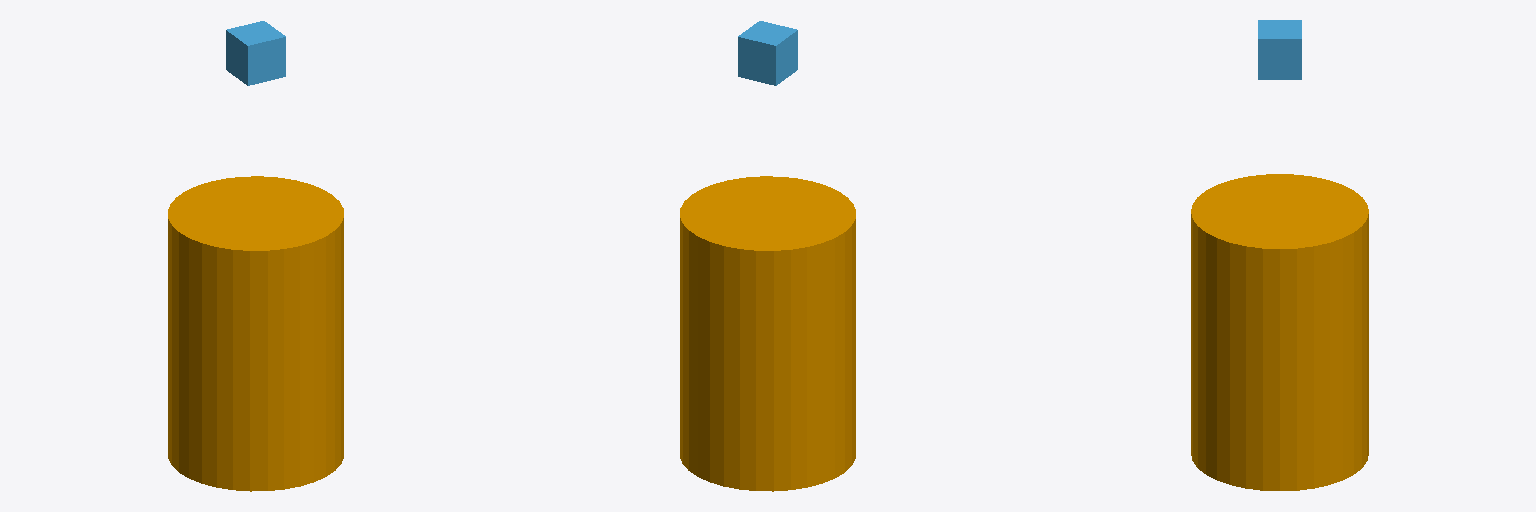
URDF robot description (sensor_model):
<?xml version="1.0"?>

<robot name="sensor_model">
  
    <link name="base_link"> 
        <visual>
            <origin xyz="0 0 0.3" rpy="0 0 0"/>
            <geometry>
                <cylinder radius="0.2" length="0.6"/>
            </geometry>
            
        </visual> 
        <collision>
            <origin xyz="0 0 0.3" rpy="0 0 0"/>
            <geometry>
                <cylinder radius="0.2" length="0.6"/>
            </geometry>
        </collision>  
        <inertial>
            <mass value="10"/>
            <inertia ixx="1.0" ixy="0.0" ixz="0.0" iyy="1.0" iyz="0.0" izz="1.0"/>
        </inertial>

    </link>

    <joint name="base_link_2_link1" type="fixed">
        <parent link="base_link"/>
        <child link="link1"/>
        <origin xyz="0 0 1.0"/>
    </joint>

    <link name="link1">
        <inertial>
            <origin xyz="0.0 0.0 0.0" rpy="0.0 0.0 0.0"/>
            <mass value="0.1"/>
            <inertia ixx="0.000166667" ixy="0.0" ixz="0.0" iyy="0.000166667" iyz="0.0" izz="0.000166667"/>
        </inertial>
        <visual>
            <origin xyz="0.0 0.0 0.0" rpy="0.0 0.0 0.0"/>
            <geometry>
                <box size="0.1 0.1 0.1"/>
            </geometry>
        </visual>
        <collision>
            <origin xyz="0.0 0.0 0.0" rpy="0.0 0.0 0.0"/>
            <geometry>
                <box size="0.1 0.1 0.1"/>
            </geometry>
        </collision>
    </link>


    <!-- https://classic.gazebosim.org/tutorials?tut=ros_gzplugins#Pluginsavailableingazebo_plugins -->


    <!-- single camera -->
    <!-- <gazebo reference="link1">
        <sensor type="camera" name="camera1">
            <update_rate>30.0</update_rate>
            <camera name="head">
                <horizontal_fov>1.3962634</horizontal_fov>
                <image>
                    <width>800</width>
                    <height>800</height>
                    <format>R8G8B8</format>
                </image>
                <clip>
                    <near>0.02</near>
                    <far>300</far>
                </clip>
            </camera>
            <plugin name="camera_controller" filename="libgazebo_ros_camera.so"> 
                <alwaysOn>true</alwaysOn>
                <updateRate>0.0</updateRate>
                <cameraName>rrbot/camera1</cameraName>
                <imageTopicName>image_raw</imageTopicName>
                <cameraInfoTopicName>camera_info</cameraInfoTopicName>
                <frameName>link1</frameName>
                <hackBaseline>0.07</hackBaseline>
                <distortionK1>0.0</distortionK1>
                <distortionK2>0.0</distortionK2>
                <distortionK3>0.0</distortionK3>
                <distortionT1>0.0</distortionT1>
                <distortionT2>0.0</distortionT2>
            </plugin>
        </sensor>
    </gazebo> -->


    <!-- Multi camera/stero camera -->
    <!-- <gazebo reference="link1">
        <sensor type="multicamera" name="stero_camera">
            <update_rate>30</update_rate>
            <camera name="left">
                <horizontal_fov>1.3962634</horizontal_fov>
                <image>
                    <width>800</width>
                    <height>800</height>
                    <format>R8G8B8</format>
                </image>
                <clip>
                    <near>0.02</near>
                    <far>300</far>
                </clip>
                <noise>
                    <type>gaussian</type>
                    <mean>0.0</mean>
                    <stddev>0.007</stddev>
                </noise>
            </camera>

            <camera name="right">
                <pose>0 -0.07 0 0 0 0</pose>
                <horizontal_fov>1.3962634</horizontal_fov>
                <image>
                    <width>800</width>
                    <height>800</height>
                    <format>R8G8B8</format>
                </image>
                <clip>
                    <near>0.02</near>
                    <far>300</far>
                </clip>
                <noise>
                    <type>gaussian</type>
                    <mean>0.0</mean>
                    <stddev>0.007</stddev>
                </noise>
            </camera>

            <plugin name="stereo_camera_controller" filename="libgazebo_ros_multicamera.so">
                <alwaysOn>true</alwaysOn>
                <updateRate>0.0</updateRate>
                <cameraName>stero_camera/camera</cameraName>
                <imageTopicName>stero_camera/image_raw</imageTopicName>
                <cameraInfoTopicName>stero_camera/camera_info</cameraInfoTopicName>
                <frameName>link1</frameName>
                <hackBaseline>0.07</hackBaseline>
                <distortionK1>0.0</distortionK1>
                <distortionK2>0.0</distortionK2>
                <distortionK3>0.0</distortionK3>
                <distortionT1>0.0</distortionT1>
                <distortionT2>0.0</distortionT2>
            </plugin>
        </sensor>
    </gazebo> -->
    
    
    <!-- RGBD deapth camera/kinect camera -->
    <!-- <gazebo reference="link1">
        <sensor name="depth_kinect_camera" type="depth">
            <update_rate>20</update_rate>
            <camera>
                <horizontal_fov>1.047198</horizontal_fov>
                <image>
                    <width>640</width>
                    <height>480</height>
                    <format>R8G8B8</format>
                </image>
                <clip>
                    <near>0.05</near>
                    <far>3</far>
                </clip>
            </camera>

            <plugin name="depth_camera_controller" filename="libgazebo_ros_openni_kinect.so">
                <baseline>0.2</baseline>
                <alwaysOn>true</alwaysOn>
                <updateRate>1.0</updateRate>
                <cameraName>depth_kinect_camera</cameraName>
                <imageTopicName>/depth_kinect_camera/color/image_raw</imageTopicName>
                <cameraInfoTopicName>/depth_kinect_camera/color/camera_info</cameraInfoTopicName>
                <depthImageTopicName>/depth_kinect_camera/depth/image_raw</depthImageTopicName>
                <depthImageInfoTopicName>/depth_kinect_camera/depth/camera_info</depthImageInfoTopicName>
                <pointCloudTopicName>/depth_kinect_camera/depth/points</pointCloudTopicName>
                <frameName>link1</frameName>
                <pointCloudCutoff>0.5</pointCloudCutoff>
                <pointCloudCutoffMax>3.0</pointCloudCutoffMax>
                <distortionK1>0.00000001</distortionK1>
                <distortionK2>0.00000001</distortionK2>
                <distortionK3>0.00000001</distortionK3>
                <distortionT1>0.00000001</distortionT1>
                <distortionT2>0.00000001</distortionT2>
                <CxPrime>0</CxPrime>
                <Cx>0</Cx>
                <Cy>0</Cy>
                <focalLength>0</focalLength>
                <hackBaseline>0</hackBaseline>
            </plugin>
        </sensor>
    </gazebo> -->

    <!-- 3D lidar -->
    <!-- <gazebo reference="link1">
        <sensor type="ray" name="velodyne-VLP16">
            <update_rate>10</update_rate>
            <pose>0 0 0 0 0 0</pose>
            <visualize>false</visualize>
            <ray>
                <scan>
                    <horizontal>
                        <samples>512</samples>
                        <resolution>1</resolution>
                        <min_angle>-3.1415926535897931</min_angle>
                        <max_angle>3.1415926535897931</max_angle>
                    </horizontal>
                    <vertical>
                        <samples>64</samples>
                        <resolution>1</resolution>
                        <min_angle>-0.26</min_angle>
                        <max_angle>0.26</max_angle>
                    </vertical>
                </scan>
                <range>
                    <min>0.9</min>
                    <max>74</max>
                    <resolution>0.03</resolution>
                </range>
                <noise>
                    <type>gaussian</type>
                    <mean>0.0</mean>
                    <stddev>0.0</stddev>
                </noise>
            </ray>
            <plugin name="gazebo_ros_laser_controller" filename="libgazebo_ros_velodyne_laser.so">
                <topicName>/velodyne_points</topicName>
                <frameName>link1</frameName>
                <min_range>0.9</min_range>
                <max_range>130.0</max_range>
                <gaussianNoise>0.008</gaussianNoise>
            </plugin>
        </sensor>
    </gazebo> -->


    <!-- 2D lidar laser scan -->
    <!-- <gazebo reference="link1">
        <sensor type="ray" name="head_hokuyo_sensor">
            <update_rate>62</update_rate>
            <visualize>false</visualize>
            <ray>
                <scan>
                    <horizontal>
                        <samples>640</samples>
                        <resolution>1</resolution>
                        <min_angle>-3.1415926535897931</min_angle>
                        <max_angle>3.1415926535897931</max_angle>
                    </horizontal>
                </scan>
                <range>
                    <min>0.164</min>
                    <max>12</max>
                    <resolution>0.01</resolution>
                </range>
                <noise>
                    <type>gaussian</type>
                    <mean>0.0</mean>
                    <stddev>0.01</stddev>
                </noise>
            </ray>

            <plugin name="gazebo_ros_head_hokuyo_controller" filename="libgazebo_ros_laser.so">
                <topicName>/turtlebot4_lite/lase_scan</topicName>
                <frameName>link1</frameName>
                <min_range>0.164</min_range>
                <max_range>12</max_range>
                <gaussianNoise>0.008</gaussianNoise>
            </plugin>

        </sensor>
    </gazebo>  -->


    <!-- imu sensor -->
    <!-- <gazebo reference="imu_link">
        <gravity>true</gravity>
        <sensor name="imu_sensor" type="imu">
            <always_on>true</always_on>
            <update_rate>100</update_rate>
            <visualize>true</visualize>
            <topic>__default_topic__</topic>
            <plugin filename="libgazebo_ros_imu_sensor.so" name="imu_plugin">
                <topicName>mobile_robot1/imu</topicName>
                <bodyName>imu_link</bodyName>
                <updateRateHZ>10.0</updateRateHZ>
                <gaussianNoise>0.0</gaussianNoise>
                <xyzOffset>0 0 0</xyzOffset>
                <rpyOffset>0 0 0</rpyOffset>
                <frameName>imu_link</frameName>
                <initialOrientationAsReference>false</initialOrientationAsReference>
            </plugin>
            <pose>0 0 0 0 0 0</pose>
        </sensor>
    </gazebo> -->

</robot>

--- Facts derived from the render (not from the file) ---
3 views of the same robot in one strip: view 1: azimuth 30°, elevation 25°; view 2: azimuth 150°, elevation 25°; view 3: azimuth 270°, elevation 25° (orthographic).
Model sensor_model with 2 links and 1 joints (1 fixed), rooted at base_link, posed every joint at zero.
Visible links, largest first — view 1: base_link, link1; view 2: base_link, link1; view 3: base_link, link1.
Boxes of the visible links, bbox=[...] form: base_link: bbox=[168, 176, 343, 491]; link1: bbox=[226, 21, 285, 85]; base_link: bbox=[680, 176, 855, 491]; link1: bbox=[738, 21, 797, 85]; base_link: bbox=[1191, 174, 1368, 490]; link1: bbox=[1258, 20, 1301, 79].
Size in the robot's own frame: 0.4 by 0.4 by 1.05 metres.
Geometry: primitives only (box / cylinder / sphere), no mesh files.
